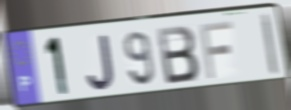1: (43, 34, 71, 100)
9: (123, 30, 156, 88)
B: (155, 23, 201, 86)
F: (198, 19, 235, 81)
I: (259, 12, 281, 78)
J: (85, 32, 117, 92)
